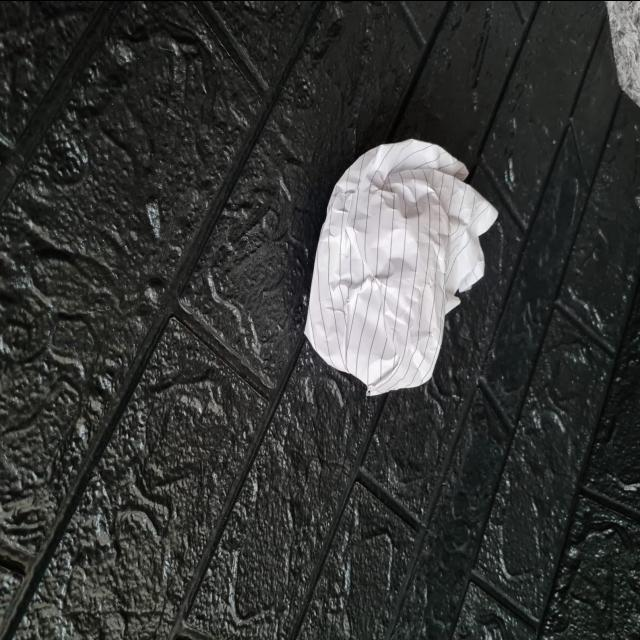kertas: (302, 124, 496, 392)
